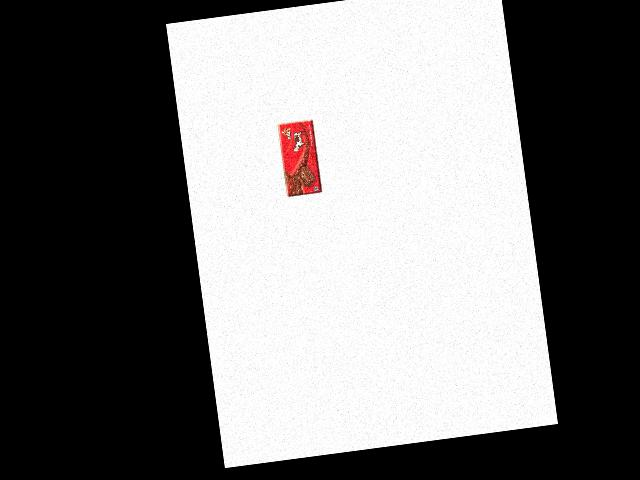chocolate: (271, 126, 316, 200)
